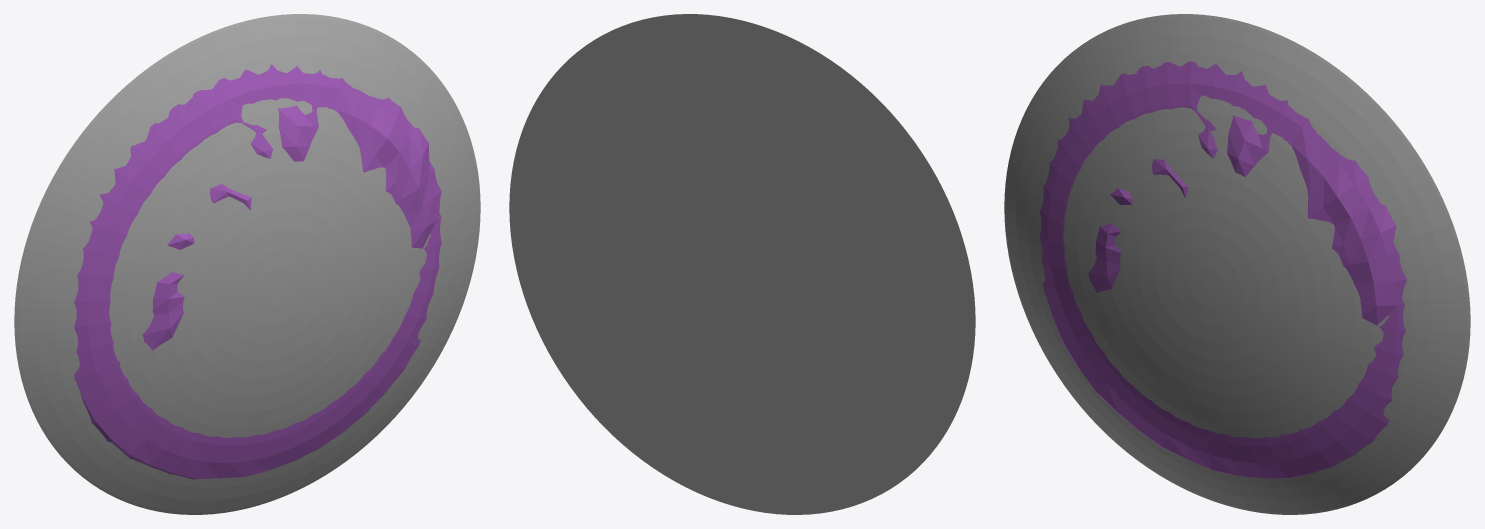
The model's file is G06_A0_ALIGNED_GT.glb.
3 views of the same model, side by side, from view 1: azimuth 30°, elevation 25°; view 2: azimuth 150°, elevation 25°; view 3: azimuth 330°, elevation 25° (orthographic).
Visible parts, largest first — view 1: Independent_GT, A0; view 2: Independent_GT; view 3: Independent_GT, A0.
Part boxes in pixels (x1,y1,x2,y2): Independent_GT: [14, 14, 480, 514]; A0: [74, 64, 441, 479]; Independent_GT: [509, 14, 975, 514]; Independent_GT: [1004, 14, 1470, 514]; A0: [1039, 61, 1406, 478].
Bounding box in the file's own units: 0.014 × 0.014 × 0.00166.
